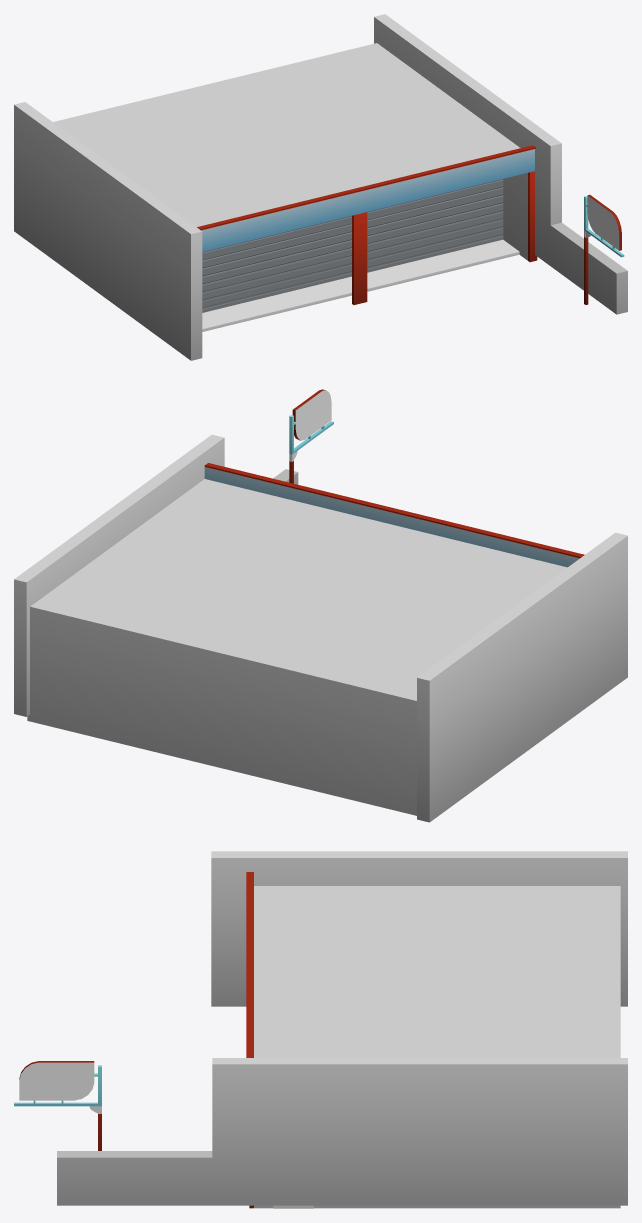
Rendered from Alfamart.fbx.
3 views of the same model, one above another, from view 1: azimuth 30°, elevation 25°; view 2: azimuth 150°, elevation 25°; view 3: azimuth 270°, elevation 25° (orthographic). The views are drawn at different scales.
Visible parts, largest first — view 1: Martket, WallMart, RollingDoor, Tiang; view 2: Martket, WallMart, Tiang; view 3: WallMart, Martket, Tiang.
Part boxes in pixels (x1,y1,x2,y2): Martket: (53,43,537,304); WallMart: (14,14,627,360); RollingDoor: (202,179,519,331); Tiang: (584,194,624,304); Martket: (27,463,584,815); WallMart: (14,434,627,822); Tiang: (289,389,333,483); WallMart: (57,851,627,1205); Martket: (246,872,620,1208); Tiang: (14,1061,101,1150).
Size of the model in its own units: 3328 by 1084 by 4053.
